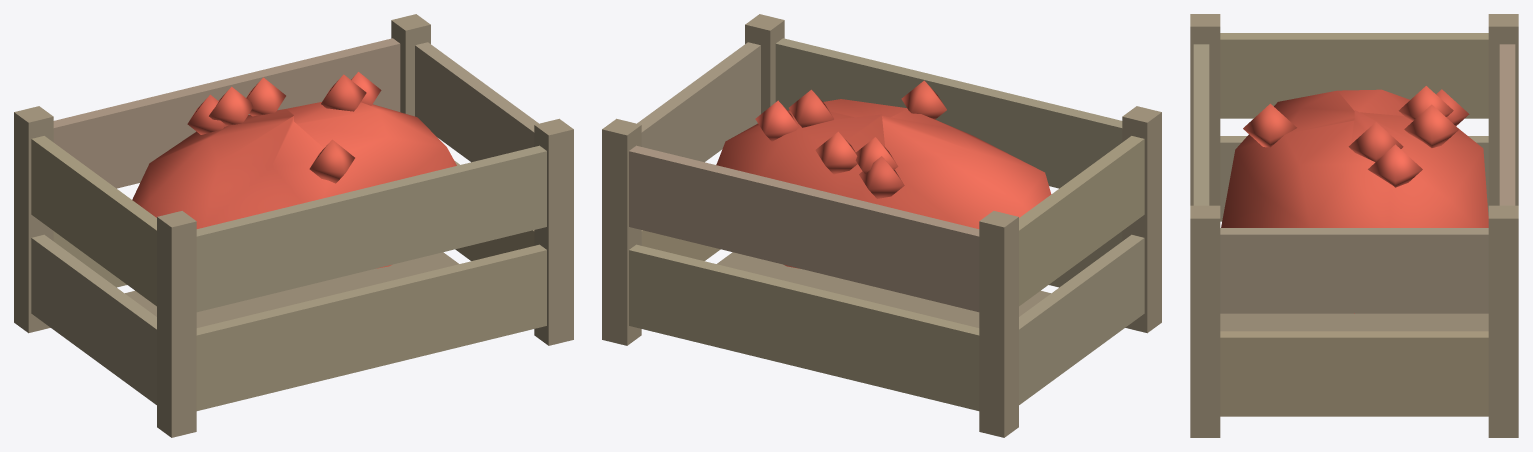
Rendered from SM_BM_BP_CrateProduce_A.glb.
3 renders of one model, left to right at view 1: azimuth 30°, elevation 25°; view 2: azimuth 150°, elevation 25°; view 3: azimuth 270°, elevation 25°, orthographic. The views are drawn at different scales.
Visible parts, largest first — view 1: SM_BM_BP_CrateProduce_A; view 2: SM_BM_BP_CrateProduce_A; view 3: SM_BM_BP_CrateProduce_A.
Boxes of the visible parts, x1,y1,x2,y2 form: SM_BM_BP_CrateProduce_A: [14, 14, 573, 437]; SM_BM_BP_CrateProduce_A: [602, 14, 1161, 437]; SM_BM_BP_CrateProduce_A: [1190, 14, 1518, 437].
Bounding box in the file's own units: 0.56 × 0.3122 × 0.38.
